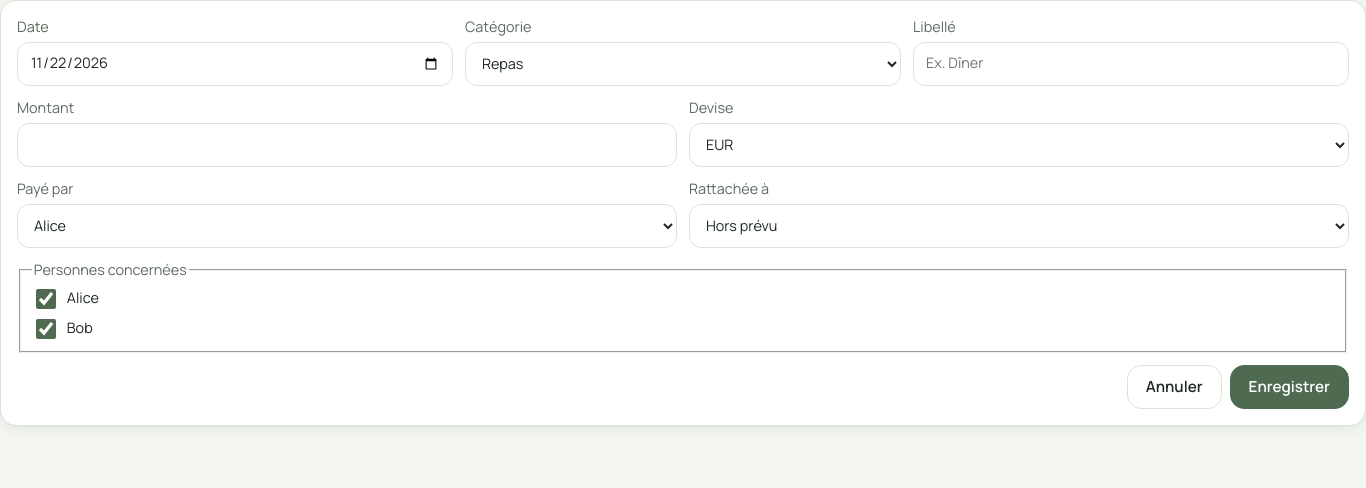
ExpenseForm › refuse le montant « -3 »
This screenshot has width=1366, height=488.
Type "-3" into the field labelled "Montant" at (347, 145), box [17,123,677,167]
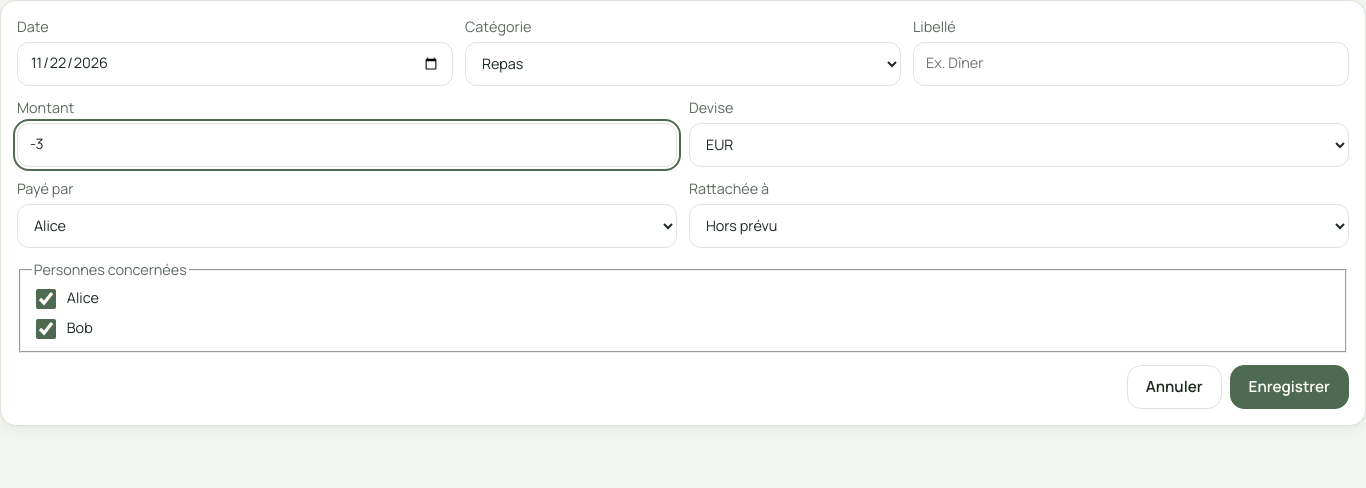
Click the button "Enregistrer" at (1289, 386), box [1230,364,1349,408]
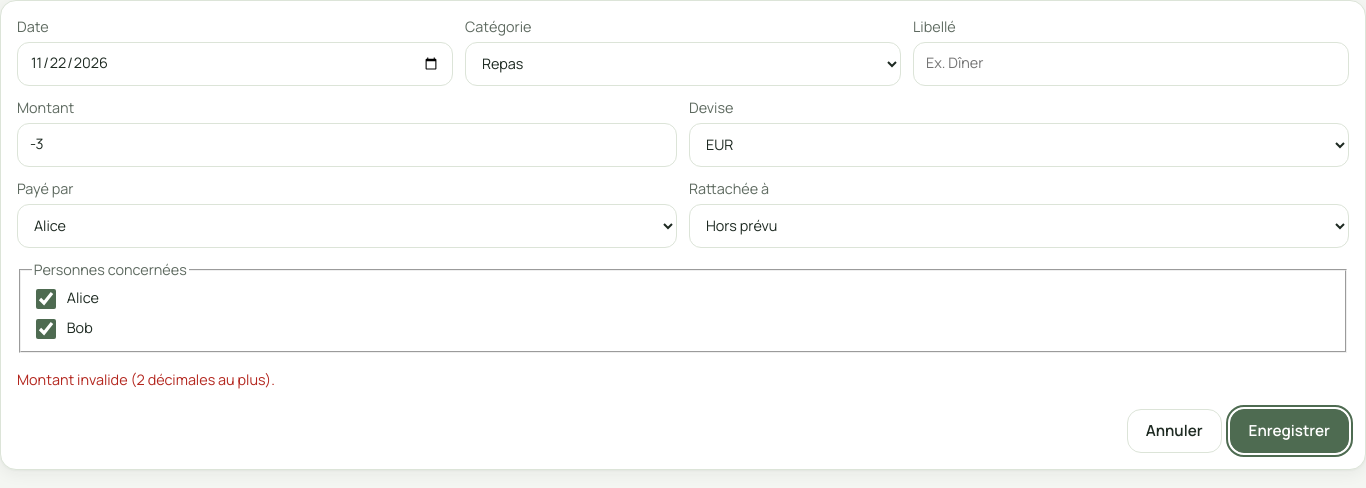
Result: the text "Montant invalide (2 décimales au plus)." is shown at [17,370,275,389]
